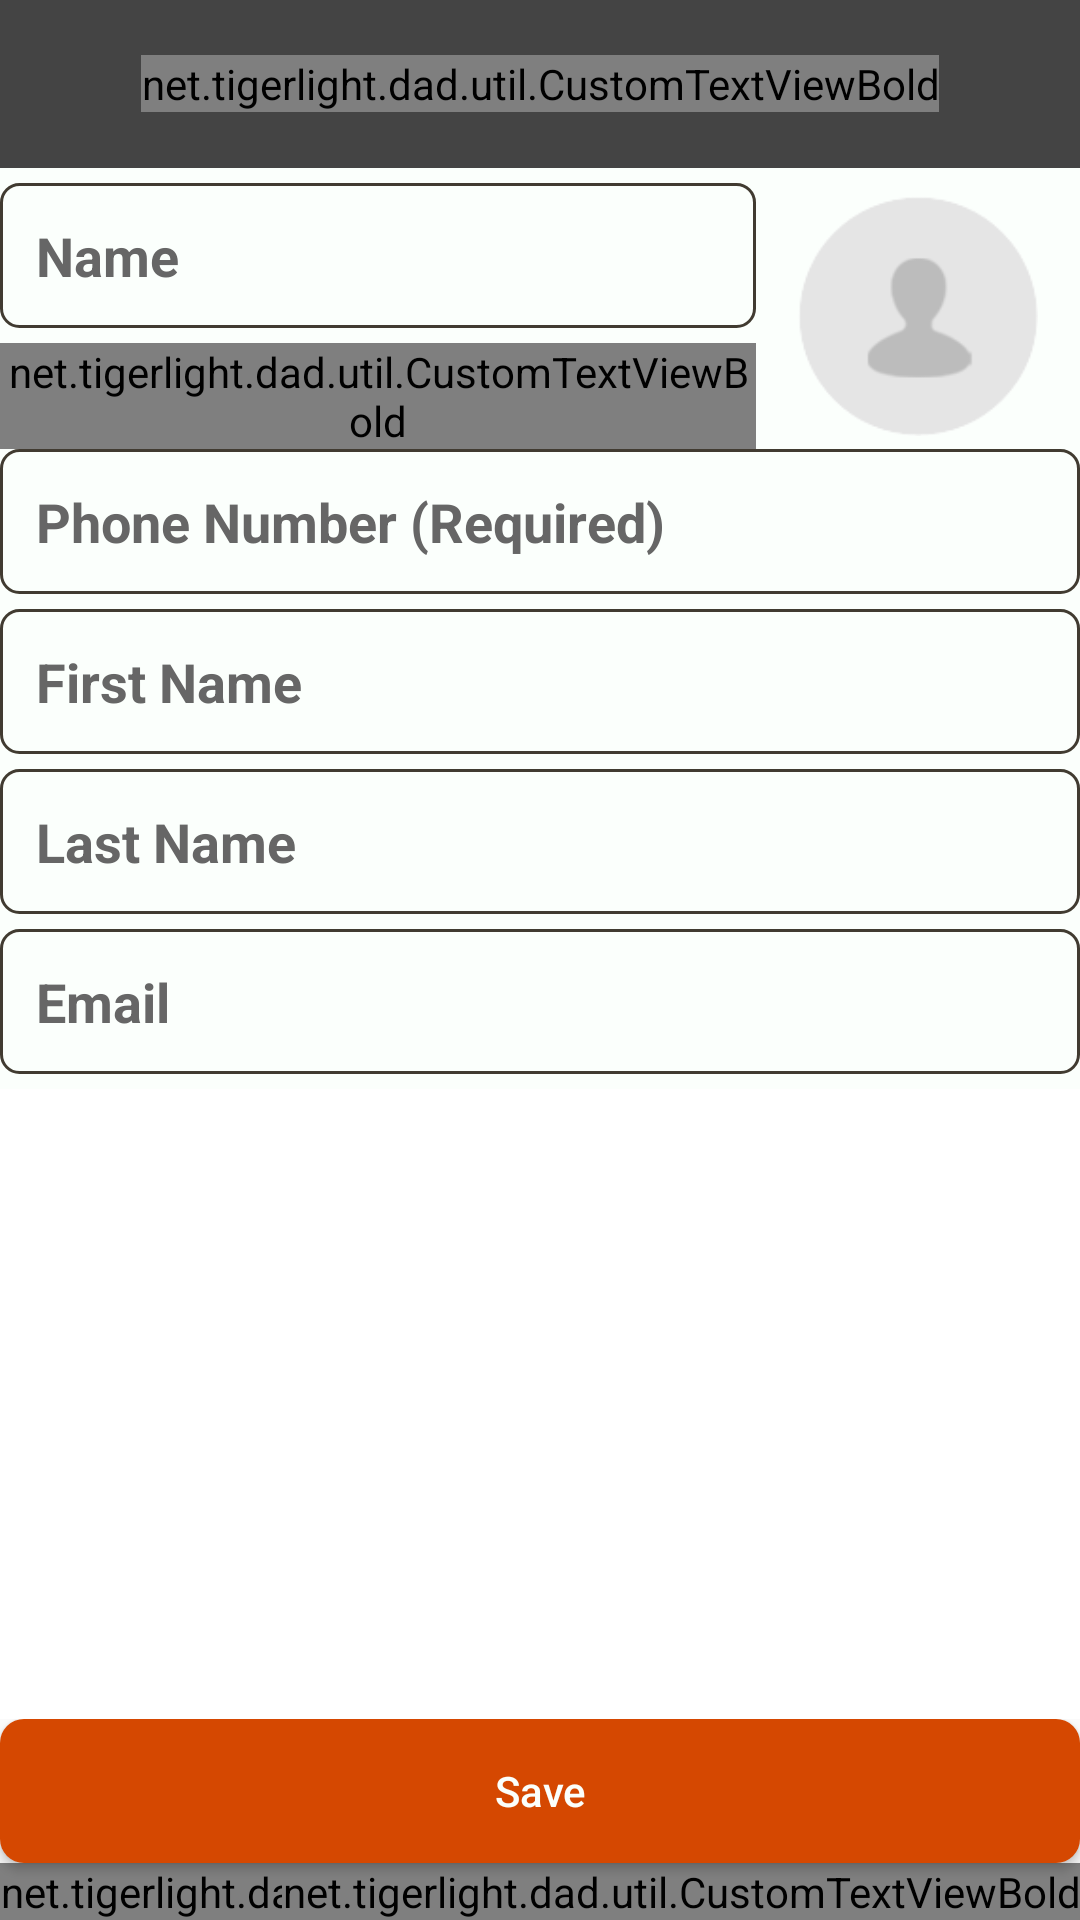

Where to tap for icons on this 1080px x 1920px app screen, as (x,y):
user: (918,316)
